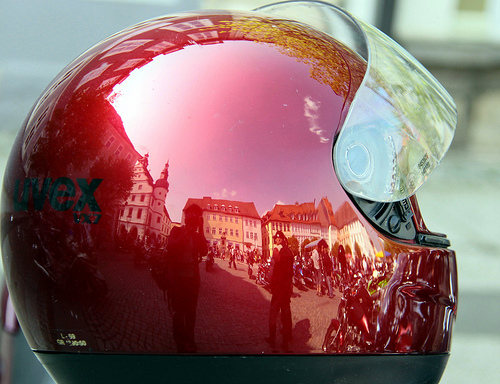helmet: (4, 5, 457, 380)
